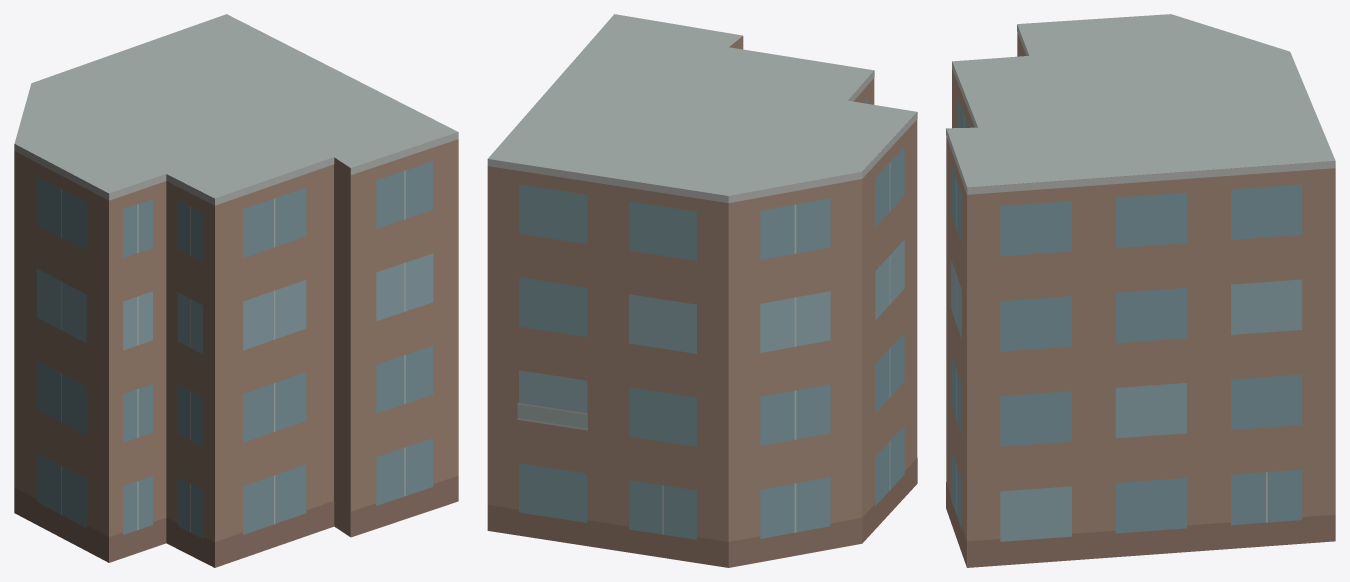
Rendered from survey-upis-33018182.glb.
3 views of the same model, side by side, from view 1: azimuth 30°, elevation 25°; view 2: azimuth 150°, elevation 25°; view 3: azimuth 270°, elevation 25° (orthographic). The views are drawn at different scales.
Visible parts, largest first — view 1: survey-upis-33018182.tmp; view 2: survey-upis-33018182.tmp; view 3: survey-upis-33018182.tmp.
Part boxes in pixels (x1,y1,x2,y2): survey-upis-33018182.tmp: (14,14,458,567); survey-upis-33018182.tmp: (487,14,917,567); survey-upis-33018182.tmp: (946,14,1335,567).
Bounding box in the file's own units: 12.43 × 12.7 × 11.79.
